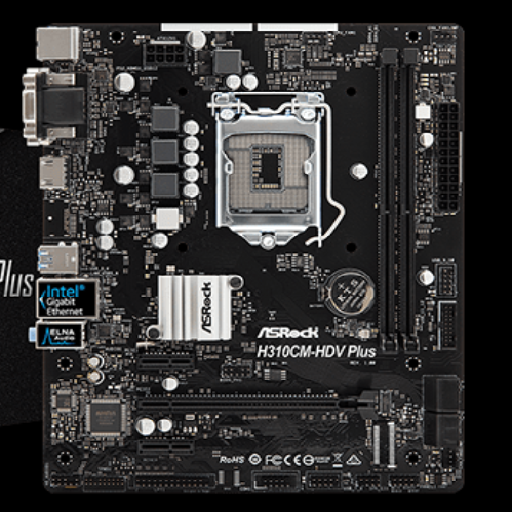CPU: (209, 93, 331, 253)
GPU: (131, 391, 382, 425)
MOTHERBOARD: (22, 16, 467, 496)
RAM: (376, 47, 423, 354)
